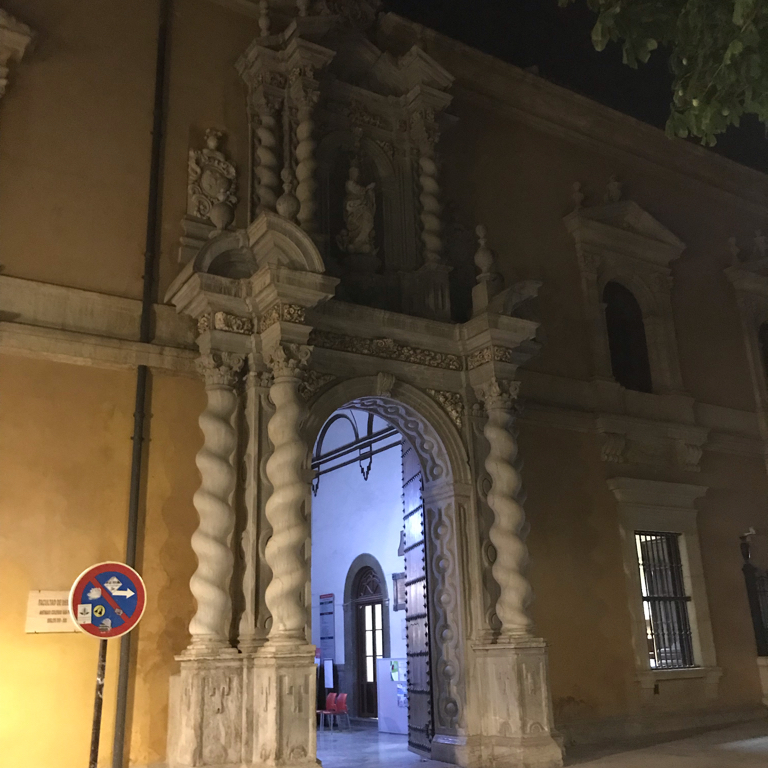arco-medio-punto: (302, 387, 456, 512)
columna-salomonica: (185, 381, 243, 645), (478, 403, 536, 639), (262, 375, 310, 642), (290, 107, 319, 240), (414, 151, 445, 273), (252, 112, 281, 219)
